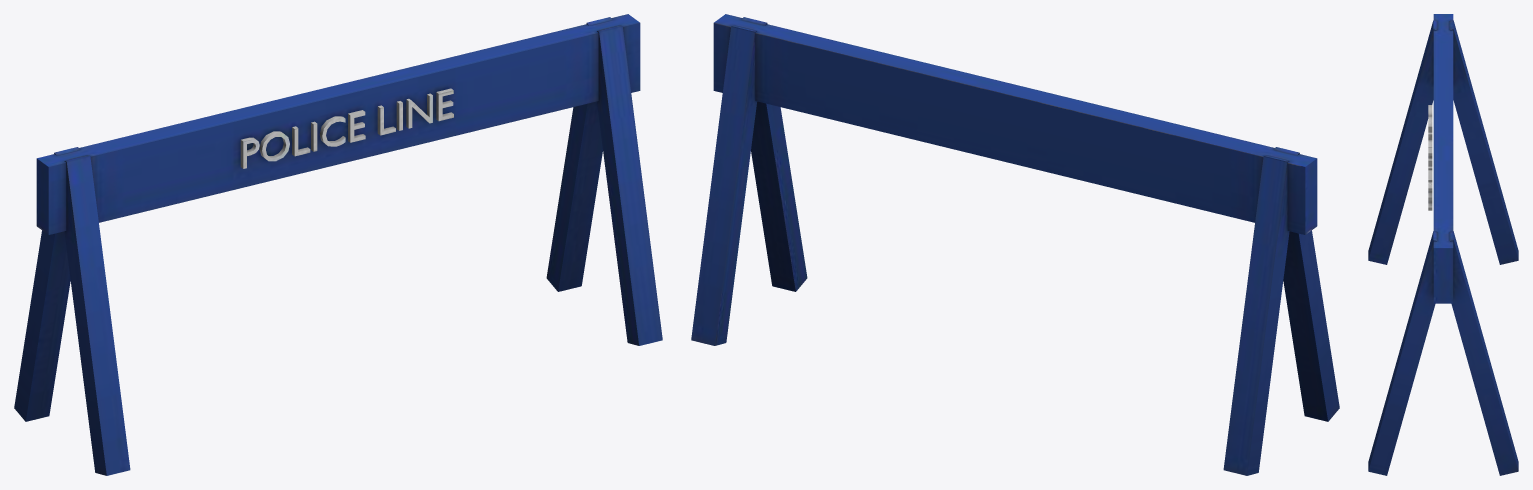
The model's file is valla_policia.glb.
3 renders of one model, left to right at view 1: azimuth 30°, elevation 25°; view 2: azimuth 150°, elevation 25°; view 3: azimuth 270°, elevation 25°, orthographic. The views are drawn at different scales.
Parts seen in each view (by area): view 1: valla_policia; view 2: valla_policia; view 3: valla_policia.
Part boxes in pixels (x1=…): valla_policia: x1=14, y1=14, x2=662, y2=475; valla_policia: x1=691, y1=14, x2=1339, y2=475; valla_policia: x1=1368, y1=14, x2=1518, y2=475.
Size of the model in its own units: 2 by 0.9378 by 0.5429.
Materials: 1 (1 with a texture image).
